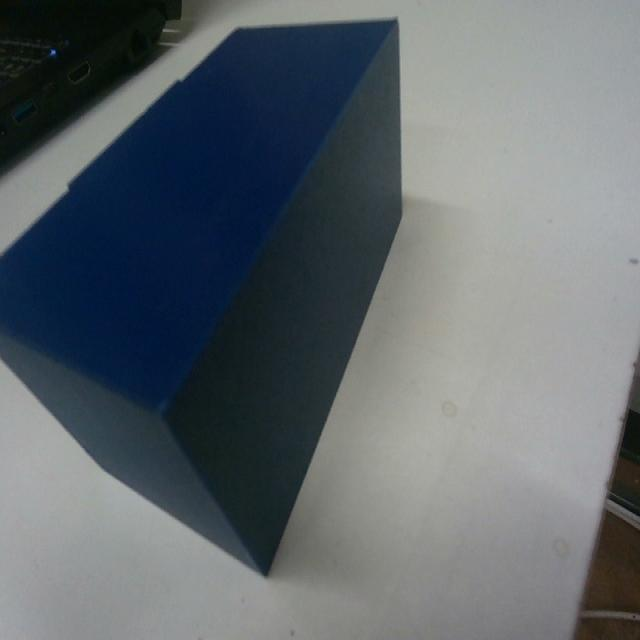Blue Cuboid: (0, 13, 405, 576)
